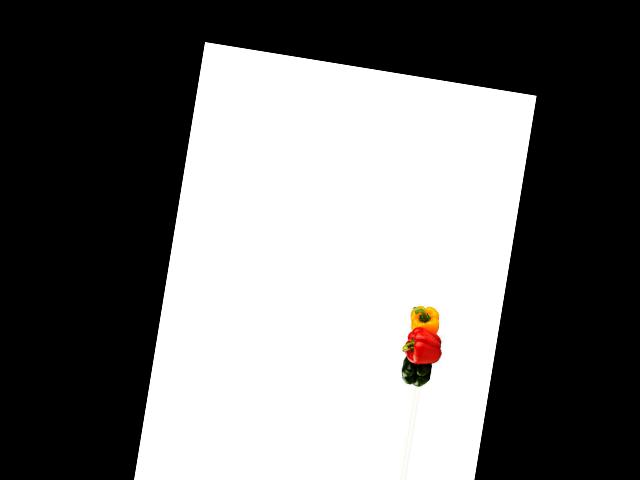bell_pepper: (404, 301, 447, 337)
